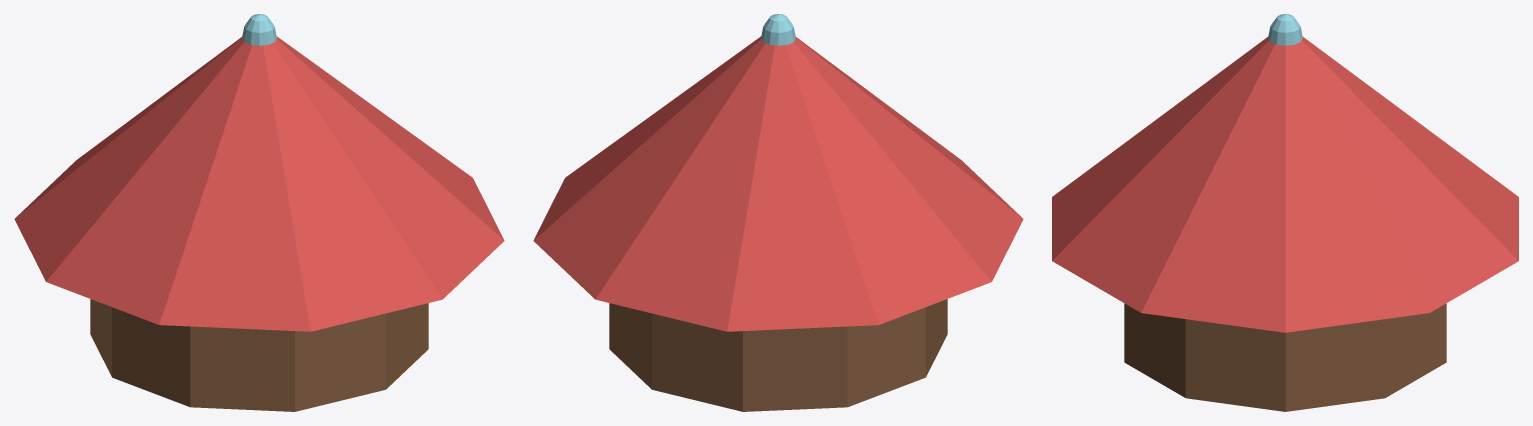
File: jar_lantern_cork.obj
The picture shows the model from 3 angles, left to right: view 1: azimuth 30°, elevation 25°; view 2: azimuth 150°, elevation 25°; view 3: azimuth 270°, elevation 25°; orthographic projection.
Visible parts, largest first — view 1: jar_lantern_cork; view 2: jar_lantern_cork; view 3: jar_lantern_cork.
Part boxes in pixels (<box>): jar_lantern_cork: <box>14,14,504,411</box>; jar_lantern_cork: <box>533,14,1023,411</box>; jar_lantern_cork: <box>1052,14,1518,411</box>.
Bounding box in the file's own units: 0.084 × 0.0615 × 0.0799.
Materials: 1 (1 with a texture image).
